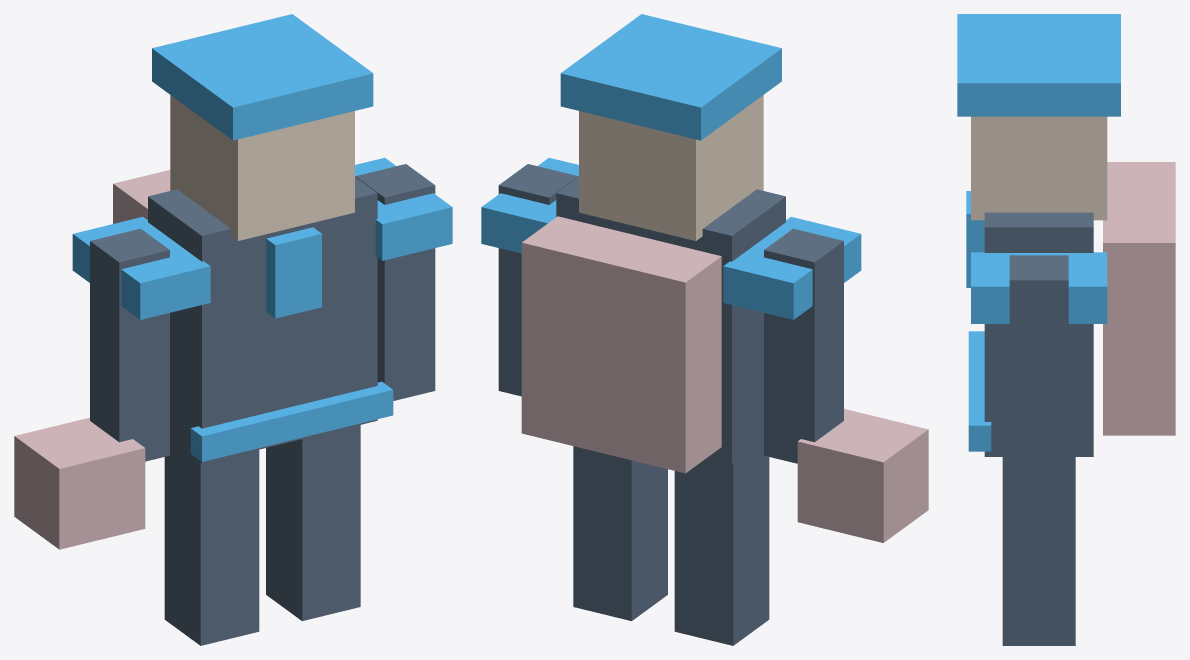
File: 01_bryn_emberkin_ranger_near_cargo.glb
3 renders of one model, left to right at view 1: azimuth 30°, elevation 25°; view 2: azimuth 150°, elevation 25°; view 3: azimuth 270°, elevation 25°, orthographic.
Parts seen in each view (by area): view 1: Bryn Emberkin, Ranger near Cargo; view 2: Bryn Emberkin, Ranger near Cargo; view 3: Bryn Emberkin, Ranger near Cargo.
Part boxes in pixels (left/top/right/bottom): Bryn Emberkin, Ranger near Cargo: left=14, top=14, right=452, bottom=645; Bryn Emberkin, Ranger near Cargo: left=481, top=14, right=928, bottom=645; Bryn Emberkin, Ranger near Cargo: left=957, top=14, right=1175, bottom=645.
Bounding box in the file's own units: 1.07 × 1.46 × 0.518.
